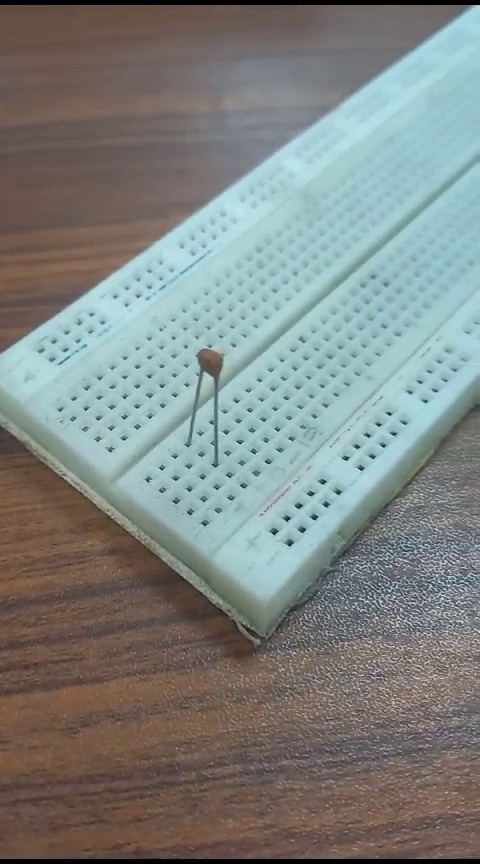ceramic capacitor: (180, 348, 238, 453)
